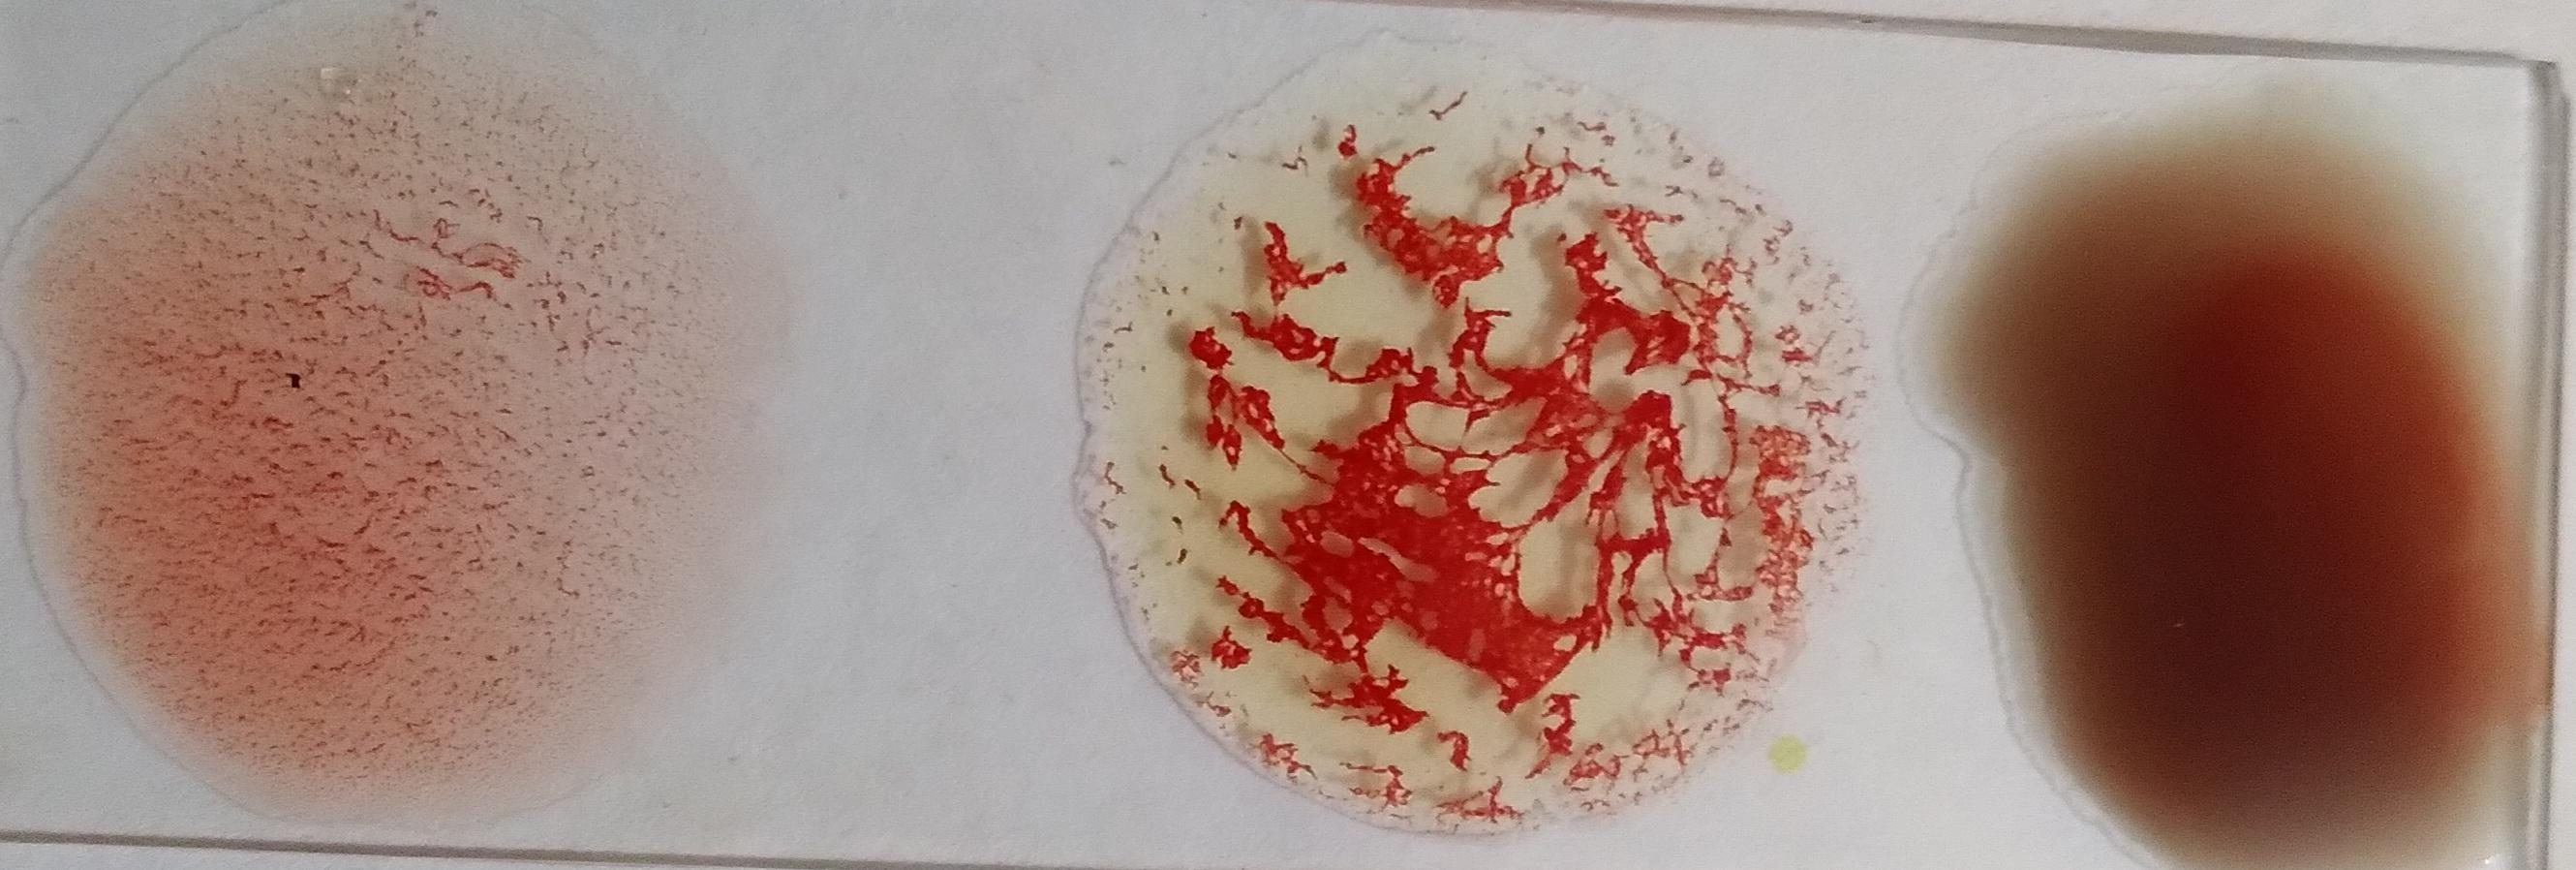B: (1099, 66, 1842, 835)
D: (41, 36, 731, 814)
